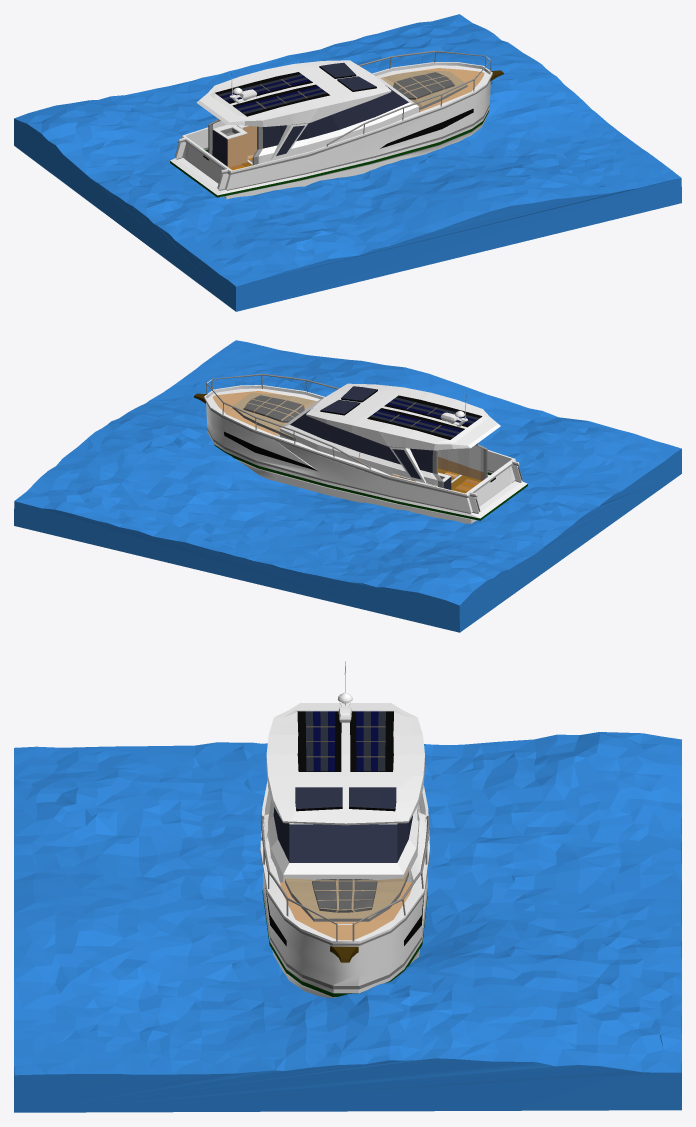
3 renders of one model, top to bottom at view 1: azimuth 30°, elevation 25°; view 2: azimuth 150°, elevation 25°; view 3: azimuth 270°, elevation 25°, orthographic. The views are drawn at different scales.
Visible parts, largest first — view 1: Eau_19, bat du bateau_14, toit_17, vitre_18, capo_16, barre haut_3; view 2: Eau_19, bat du bateau_14, toit_17, vitre_18, capo_16, barre haut_3; view 3: Eau_19, toit_17, bat du bateau_14, vitre_18, capo_16, barre haut_3.
Part boxes in pixels (box(x1,y1,x2,y2)): Eau_19: box(14, 14, 681, 311); bat du bateau_14: box(170, 62, 492, 199); toit_17: box(196, 60, 391, 159); vitre_18: box(208, 76, 418, 170); capo_16: box(381, 70, 467, 110); barre haut_3: box(326, 50, 491, 146); Eau_19: box(14, 340, 681, 632); bat du bateau_14: box(204, 385, 527, 523); toit_17: box(306, 383, 500, 482); vitre_18: box(280, 399, 487, 493); capo_16: box(232, 392, 316, 441); barre haut_3: box(206, 373, 371, 469); Eau_19: box(14, 732, 681, 1112); toit_17: box(266, 703, 424, 825); bat du bateau_14: box(260, 781, 429, 997); vitre_18: box(268, 799, 418, 882); capo_16: box(285, 869, 408, 921); barre haut_3: box(261, 815, 429, 924).
Bounding box in the file's own units: 2.46 × 0.7075 × 2.12.
